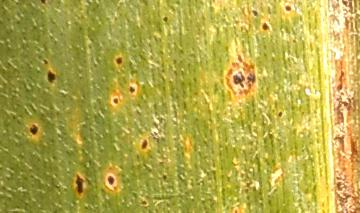tarspot: (73, 173, 87, 197), (230, 71, 246, 88), (246, 70, 259, 87), (247, 6, 261, 20), (112, 54, 125, 68), (29, 121, 39, 139), (46, 69, 57, 84), (259, 20, 272, 31), (281, 3, 295, 13), (275, 107, 285, 121), (139, 138, 149, 151), (105, 175, 116, 186), (160, 14, 171, 24), (112, 95, 120, 107), (127, 85, 136, 95), (160, 172, 169, 181), (140, 198, 148, 208), (37, 1, 52, 6)
